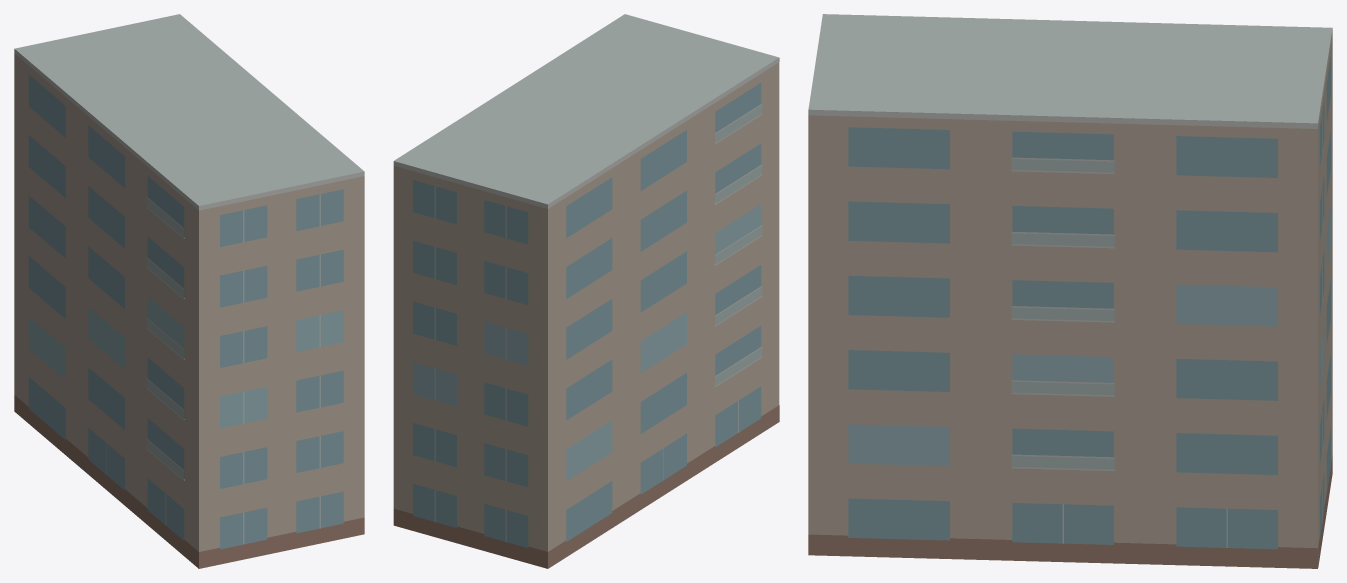
The model's file is survey-upis-32666421.glb.
3 views of the same model, side by side, from view 1: azimuth 30°, elevation 25°; view 2: azimuth 150°, elevation 25°; view 3: azimuth 270°, elevation 25° (orthographic). The views are drawn at different scales.
Visible parts, largest first — view 1: survey-upis-32666421.tmp; view 2: survey-upis-32666421.tmp; view 3: survey-upis-32666421.tmp.
Part boxes in pixels (x1,y1,x2,y2): survey-upis-32666421.tmp: (14,14,364,568); survey-upis-32666421.tmp: (393,14,779,568); survey-upis-32666421.tmp: (808,14,1332,568).
Bounding box in the file's own units: 10.22 × 19.4 × 20.7.
